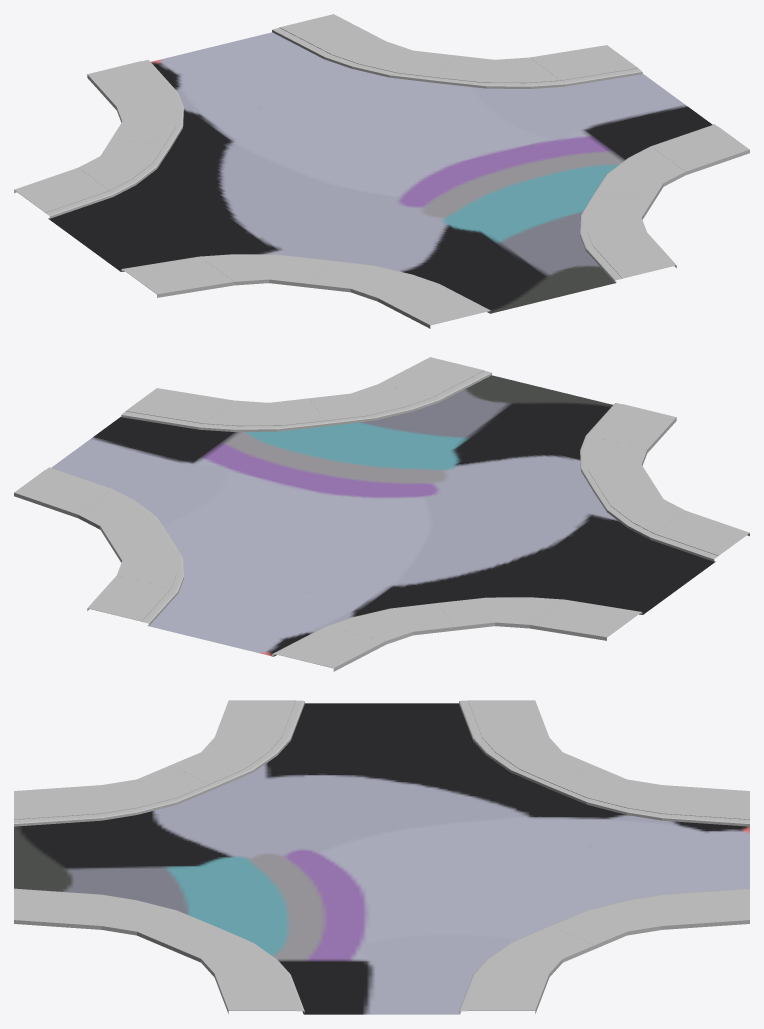
The model's file is SM_Street_4Way.fbx.
3 renders of one model, top to bottom at view 1: azimuth 30°, elevation 25°; view 2: azimuth 150°, elevation 25°; view 3: azimuth 270°, elevation 25°, orthographic. The views are drawn at different scales.
Parts seen in each view (by area): view 1: SM_Road_4Way, SM_Sidewalk_4Way; view 2: SM_Road_4Way, SM_Sidewalk_4Way; view 3: SM_Road_4Way, SM_Sidewalk_4Way.
Boxes of the visible parts, x1,y1,x2,y2 form: SM_Road_4Way: [48, 32, 712, 313]; SM_Sidewalk_4Way: [14, 14, 749, 328]; SM_Road_4Way: [51, 375, 715, 656]; SM_Sidewalk_4Way: [14, 357, 749, 671]; SM_Road_4Way: [14, 703, 749, 1014]; SM_Sidewalk_4Way: [14, 700, 749, 1013].
Bounding box in the file's own units: 1495 × 8.69 × 1493.
